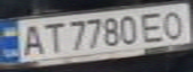0: (118, 11, 142, 46)
7: (63, 17, 87, 52), (84, 16, 106, 50)
8: (103, 15, 124, 47)
A: (15, 21, 48, 57)
E: (136, 9, 172, 43)
O: (157, 7, 193, 39)
T: (39, 20, 66, 55)
